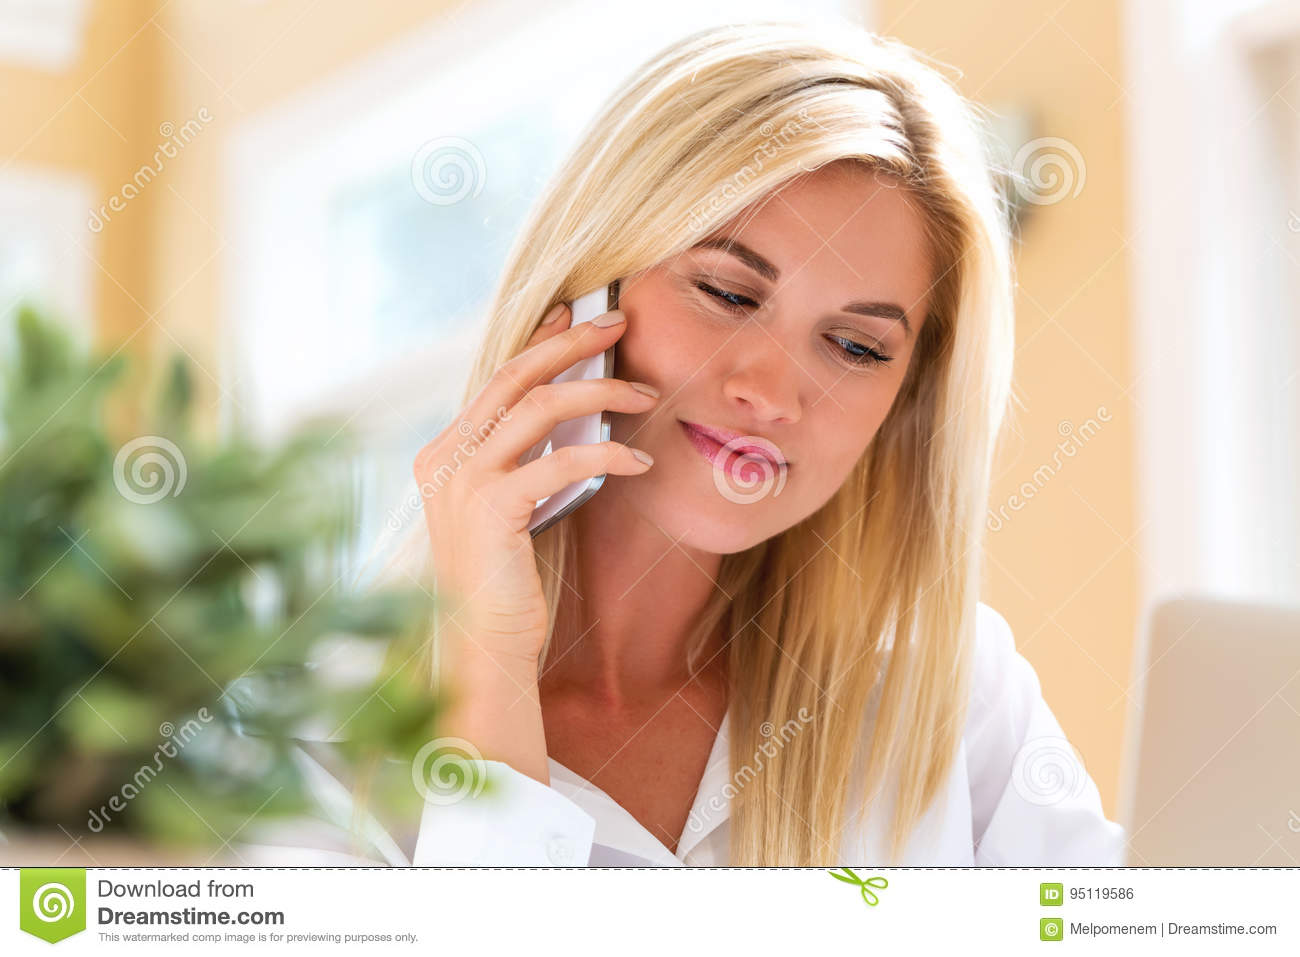phone: (529, 256, 620, 545)
talk: (414, 218, 915, 738)
